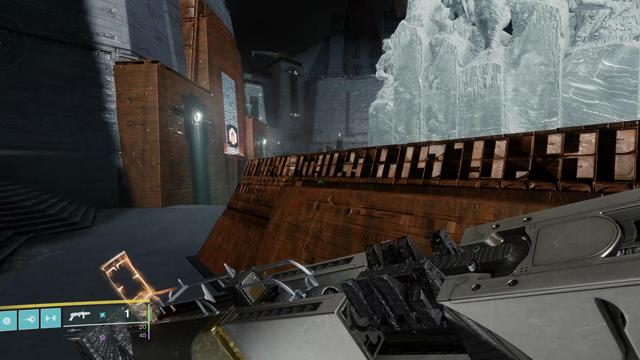worship: (229, 128, 237, 145)
